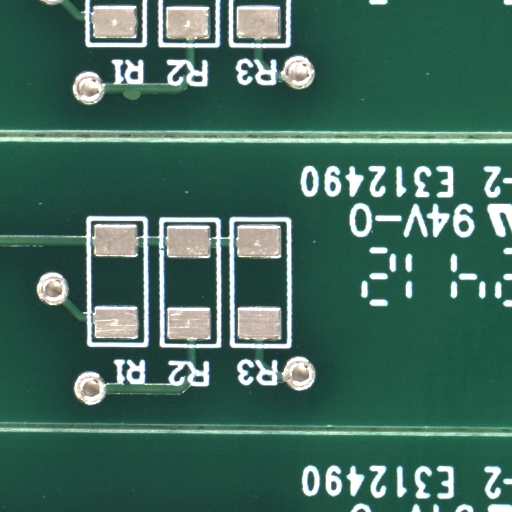Spur: (131, 96, 152, 106)
